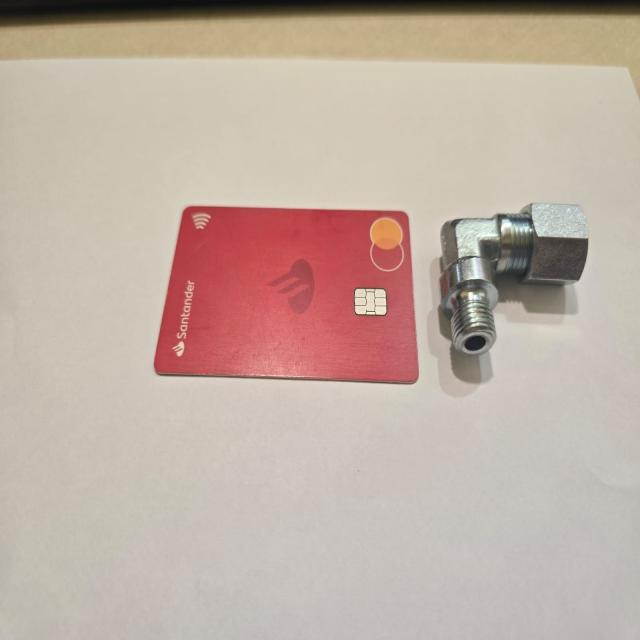cartao: (149, 205, 426, 388)
rosca_externa: (439, 196, 594, 361)
